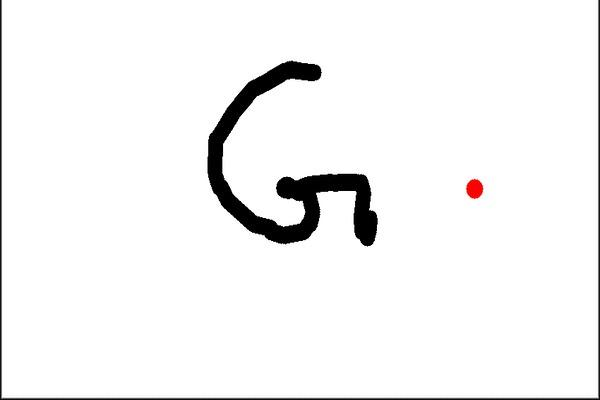G: (199, 54, 382, 252)
